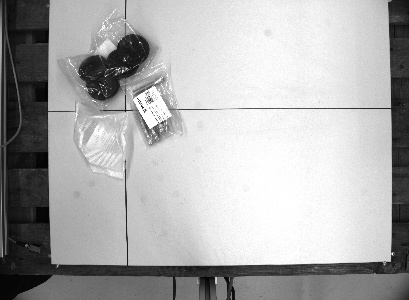t1: (58, 7, 162, 109)
t2: (122, 58, 183, 146)
t3: (64, 97, 132, 182)
